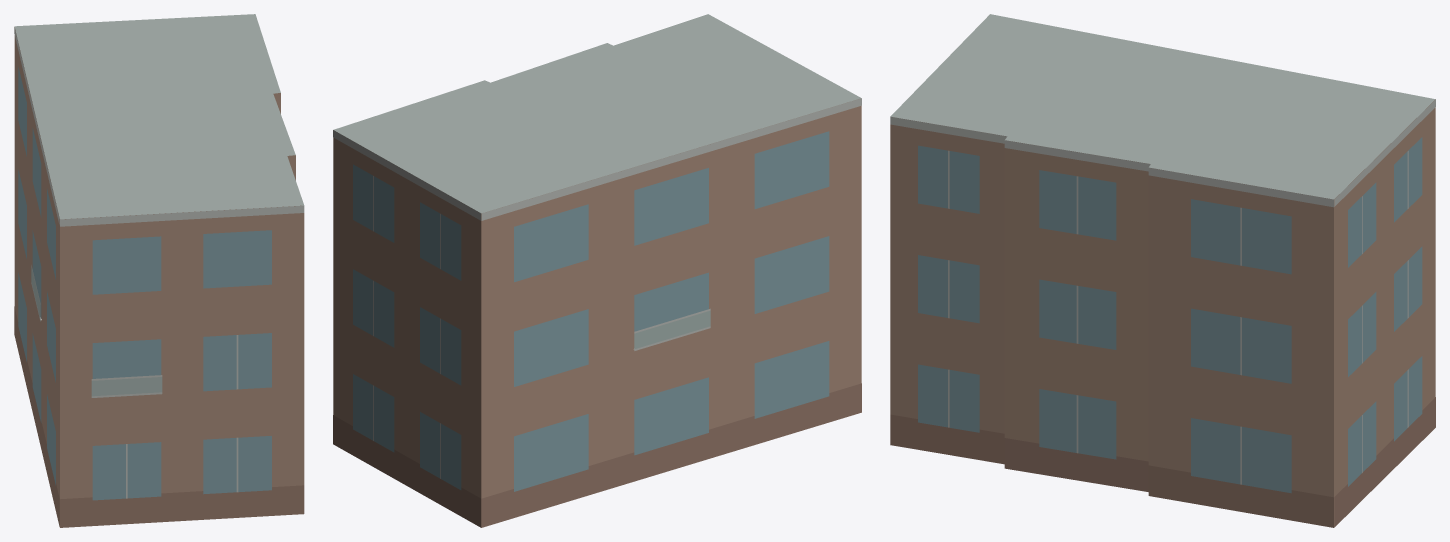
File: survey-upis-33038814.glb
3 views of the same model, side by side, from view 1: azimuth 30°, elevation 25°; view 2: azimuth 150°, elevation 25°; view 3: azimuth 270°, elevation 25° (orthographic). The views are drawn at different scales.
Visible parts, largest first — view 1: survey-upis-33038814.tmp; view 2: survey-upis-33038814.tmp; view 3: survey-upis-33038814.tmp.
Part boxes in pixels (x1,y1,x2,y2): survey-upis-33038814.tmp: (14,14,304,527); survey-upis-33038814.tmp: (333,14,861,527); survey-upis-33038814.tmp: (890,14,1435,527).
Size of the model in its own units: 12.37 by 10.2 by 15.37.
